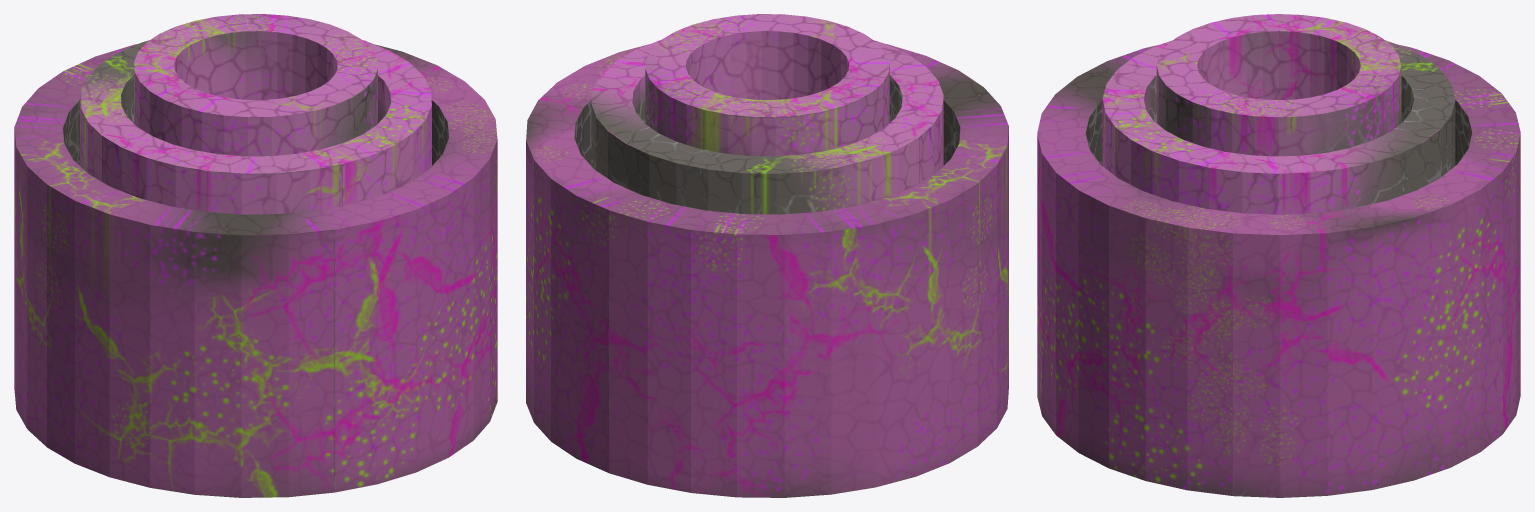
The model's file is Puzzle4.1.fbx.
The picture shows the model from 3 angles, left to right: view 1: azimuth 30°, elevation 25°; view 2: azimuth 150°, elevation 25°; view 3: azimuth 270°, elevation 25°; orthographic projection.
Parts seen in each view (by area): view 1: RotPlat1_Mesh.153, RotPlat3_Mesh.155, RotPlat2_Mesh.154; view 2: RotPlat1_Mesh.153, RotPlat3_Mesh.155, RotPlat2_Mesh.154; view 3: RotPlat1_Mesh.153, RotPlat3_Mesh.155, RotPlat2_Mesh.154.
Boxes of the visible parts, x1=… form: RotPlat1_Mesh.153: x1=14, y1=44, x2=497, y2=497; RotPlat3_Mesh.155: x1=134, y1=14, x2=377, y2=156; RotPlat2_Mesh.154: x1=80, y1=40, x2=431, y2=214; RotPlat1_Mesh.153: x1=526, y1=44, x2=1008, y2=497; RotPlat3_Mesh.155: x1=645, y1=14, x2=889, y2=156; RotPlat2_Mesh.154: x1=591, y1=40, x2=943, y2=214; RotPlat1_Mesh.153: x1=1037, y1=44, x2=1520, y2=497; RotPlat3_Mesh.155: x1=1156, y1=14, x2=1401, y2=156; RotPlat2_Mesh.154: x1=1102, y1=40, x2=1455, y2=214.
Size of the model in its own units: 2.17 by 1.63 by 2.17.
